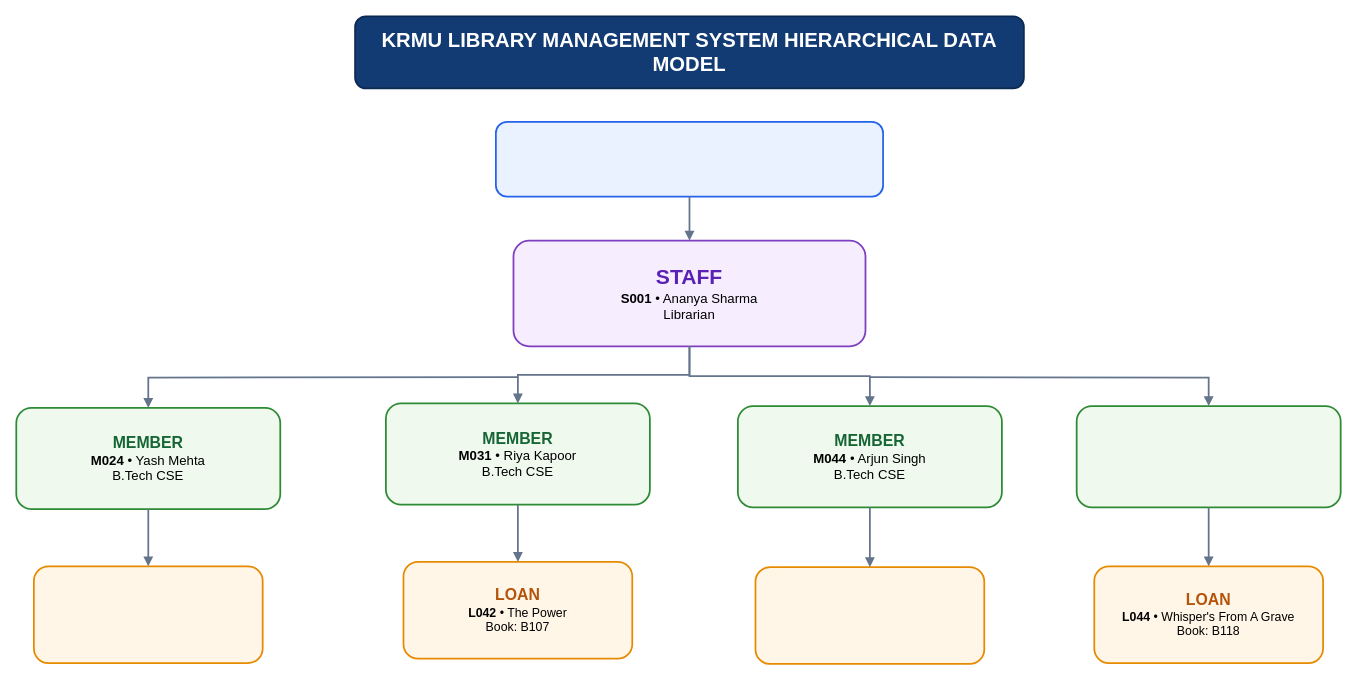
The diagram is 1356 pixels wide and 679 high, and some of its shapes have lost their labels. Each missing label, with the box of its shape:
KRMU LIBRARY Root Record: (495, 121, 884, 197)
LOAN L041 • Atomic Habits Book: B104: (33, 565, 263, 664)
LOAN L043 • Deep Work Book: B112: (754, 566, 985, 664)
MEMBER M057 • Neha Gupta B.Tech CSE: (1075, 405, 1341, 508)
